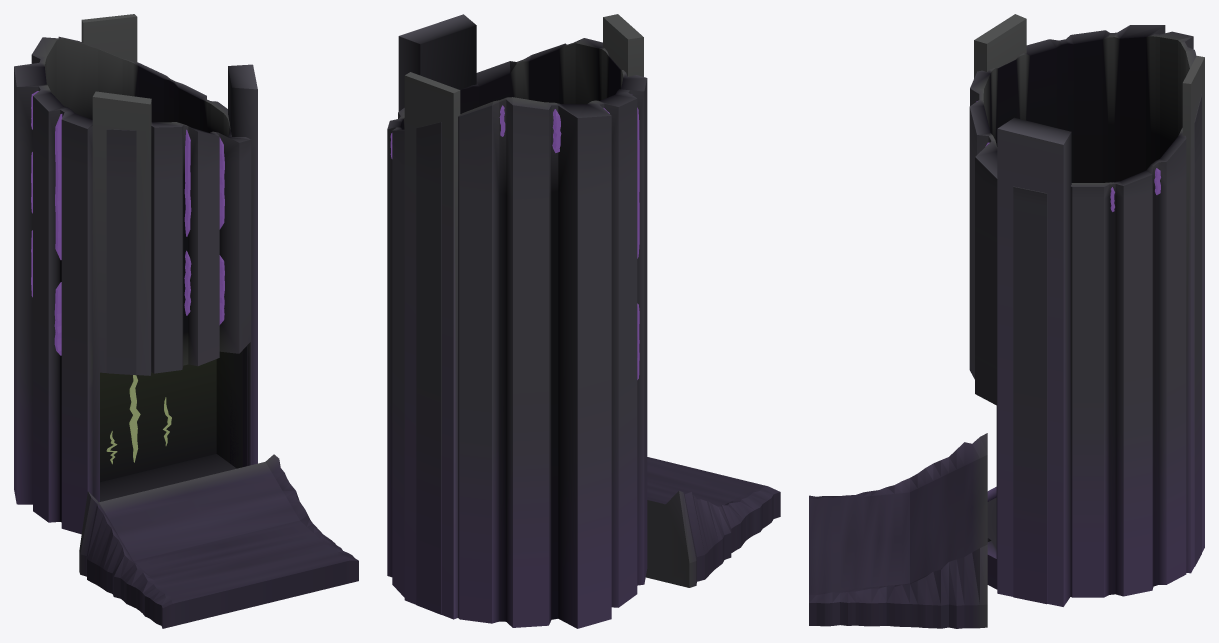
File: nullstone.glb
The picture shows the model from 3 angles, left to right: view 1: azimuth 30°, elevation 25°; view 2: azimuth 150°, elevation 25°; view 3: azimuth 270°, elevation 25°; orthographic projection. The views are drawn at different scales.
Visible parts, largest first — view 1: towerSkinNullMass, towerSkinNullShard, towerSkinNullSplinters, towerSkinNullSeams, towerSkinNullThroat; view 2: towerSkinNullMass, towerSkinNullSplinters, towerSkinNullShard, towerSkinNullSeams; view 3: towerSkinNullMass, towerSkinNullSplinters, towerSkinNullShard.
Boxes of the visible parts, x1,y1,x2,y2 form: towerSkinNullMass: (14, 36, 251, 534); towerSkinNullShard: (79, 454, 358, 628); towerSkinNullSplinters: (81, 14, 257, 502); towerSkinNullSeams: (31, 91, 224, 355); towerSkinNullThroat: (106, 375, 171, 464); towerSkinNullMass: (387, 38, 647, 628); towerSkinNullSplinters: (398, 14, 643, 619); towerSkinNullShard: (646, 457, 780, 587); towerSkinNullSeams: (390, 105, 639, 379); towerSkinNullMass: (969, 25, 1201, 604); towerSkinNullSplinters: (974, 14, 1204, 606); towerSkinNullShard: (809, 433, 987, 628).
Bounding box in the file's own units: 6.11 × 12.77 × 8.87.
